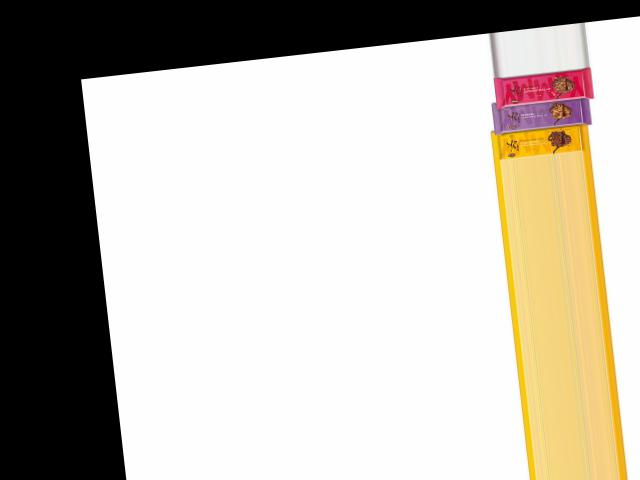chocolate: (488, 65, 600, 109)
